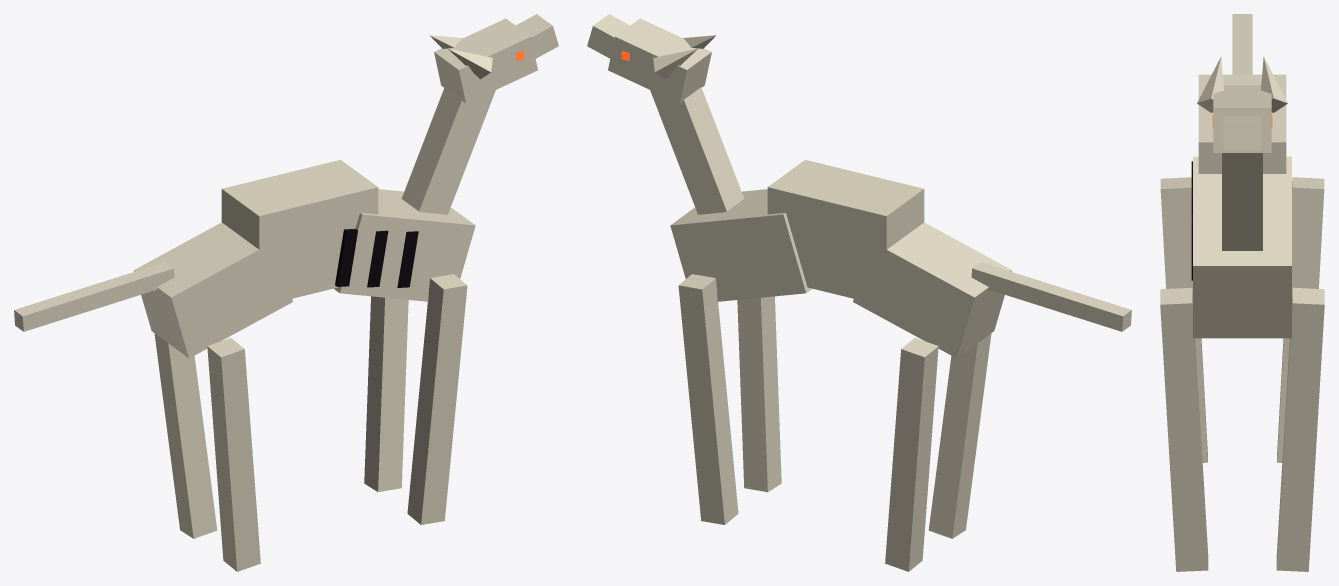
File: pale_hound_lowpoly.glb
The picture shows the model from 3 angles, left to right: view 1: azimuth 30°, elevation 25°; view 2: azimuth 150°, elevation 25°; view 3: azimuth 270°, elevation 25°; orthographic projection. The views are drawn at different scales.
Parts seen in each view (by area): view 1: body_hump, body_rear, leg_front_1, leg_rear_1, body_front, leg_front_0, leg_rear_0, neck, head, stiff_tail, muzzle, rib_hollow_2 (+2 smaller); view 2: body_hump, body_rear, body_front, leg_front_0, leg_rear_0, leg_front_1, leg_rear_1, neck, head, stiff_tail, muzzle; view 3: body_front, leg_front_0, leg_front_1, leg_rear_0, leg_rear_1, neck, body_hump, head, muzzle, stiff_tail, ear_0, ear_1.
Boxes of the visible parts, <box> form: body_hump: <box>221,160,378,303</box>; body_rear: <box>134,222,292,358</box>; leg_front_1: <box>407,274,467,524</box>; leg_rear_1: <box>207,338,260,571</box>; body_front: <box>334,189,475,301</box>; leg_front_0: <box>364,296,408,492</box>; leg_rear_0: <box>154,333,217,538</box>; neck: <box>401,87,495,214</box>; head: <box>434,18,537,103</box>; stiff_tail: <box>14,262,174,331</box>; muzzle: <box>516,14,558,58</box>; rib_hollow_2: <box>335,228,357,286</box>; body_hump: <box>767,160,924,306</box>; body_rear: <box>853,222,1011,358</box>; body_front: <box>670,189,811,301</box>; leg_front_0: <box>678,274,738,524</box>; leg_rear_0: <box>885,338,938,571</box>; leg_front_1: <box>737,296,781,492</box>; leg_rear_1: <box>928,333,991,538</box>; neck: <box>650,87,744,214</box>; head: <box>608,18,711,103</box>; stiff_tail: <box>971,262,1131,331</box>; muzzle: <box>587,14,629,58</box>; body_front: <box>1193,156,1291,338</box>; leg_front_0: <box>1276,287,1324,571</box>; leg_front_1: <box>1160,287,1208,571</box>; leg_rear_0: <box>1277,177,1324,462</box>; leg_rear_1: <box>1160,177,1207,462</box>; neck: <box>1222,153,1262,250</box>; body_hump: <box>1198,74,1286,173</box>; head: <box>1213,85,1271,152</box>; muzzle: <box>1223,116,1261,150</box>; stiff_tail: <box>1232,14,1252,74</box>; ear_0: <box>1261,56,1287,112</box>; ear_1: <box>1197,56,1223,112</box>.
Size of what is drawn, in the model's own units: 2.46 by 2 by 0.5648.
